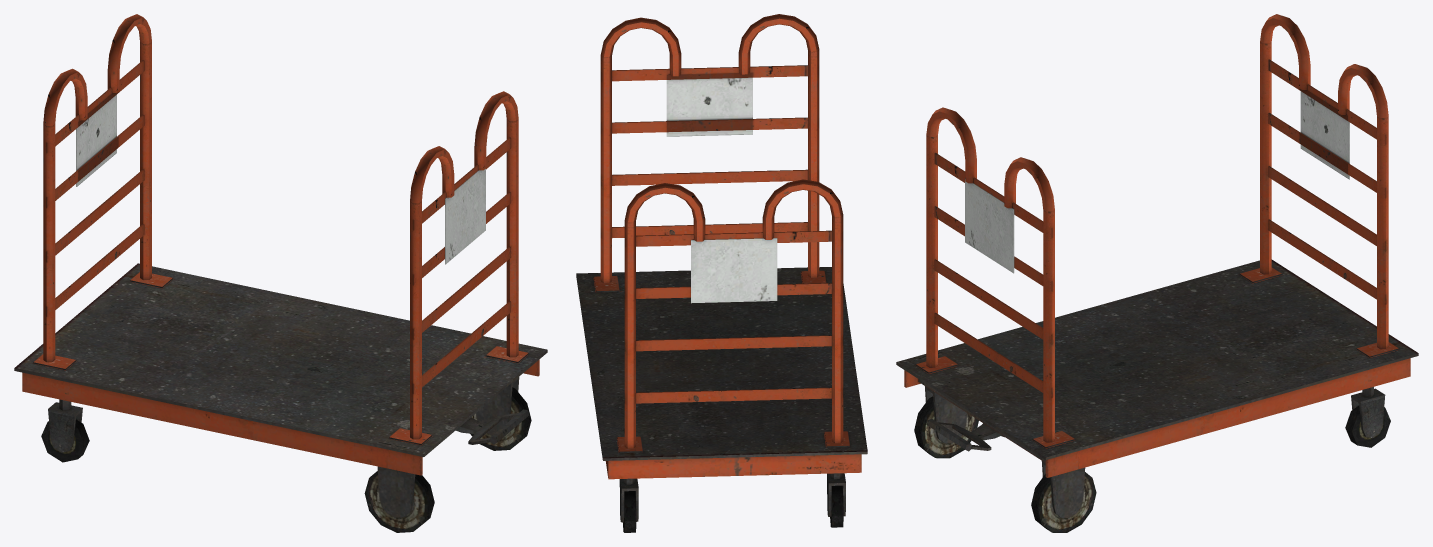
The model's file is wheelbarrow.fbx.
3 views of the same model, side by side, from view 1: azimuth 30°, elevation 25°; view 2: azimuth 150°, elevation 25°; view 3: azimuth 270°, elevation 25° (orthographic). The views are drawn at different scales.
Parts seen in each view (by area): view 1: wheelbarrow.001; view 2: wheelbarrow.001; view 3: wheelbarrow.001.
Part boxes in pixels (box(x1,y1,x2,y2)): wheelbarrow.001: box(14, 14, 547, 532); wheelbarrow.001: box(576, 14, 867, 532); wheelbarrow.001: box(896, 14, 1418, 532).
Bounding box in the file's own units: 2.05 × 1.73 × 2.26.
Materials: 1 (1 with a texture image).
